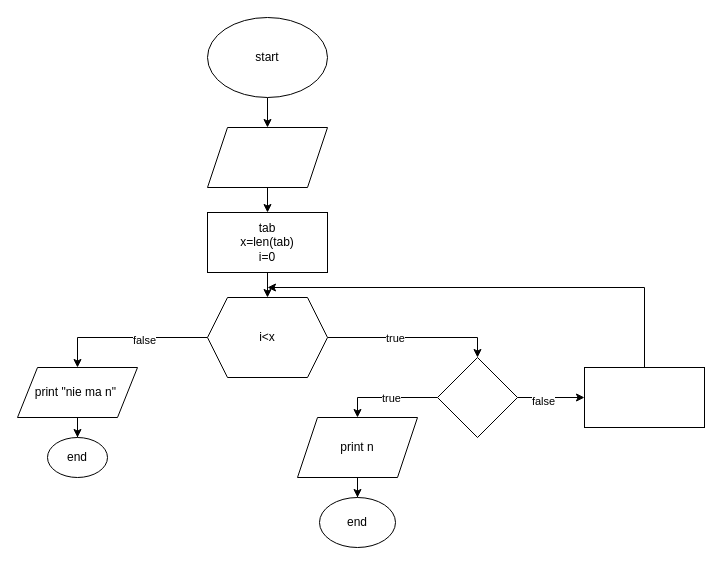
The diagram is 722 pixels wide and 565 high, and some of its shapes have lost their labels. The shapes that lost their labels are listed below. From the top down, each one's centre as x and y in pixels, then its label:
At (267,157): "input n".
At (477,397): "n=tab[i]".
At (644,397): "i++".
